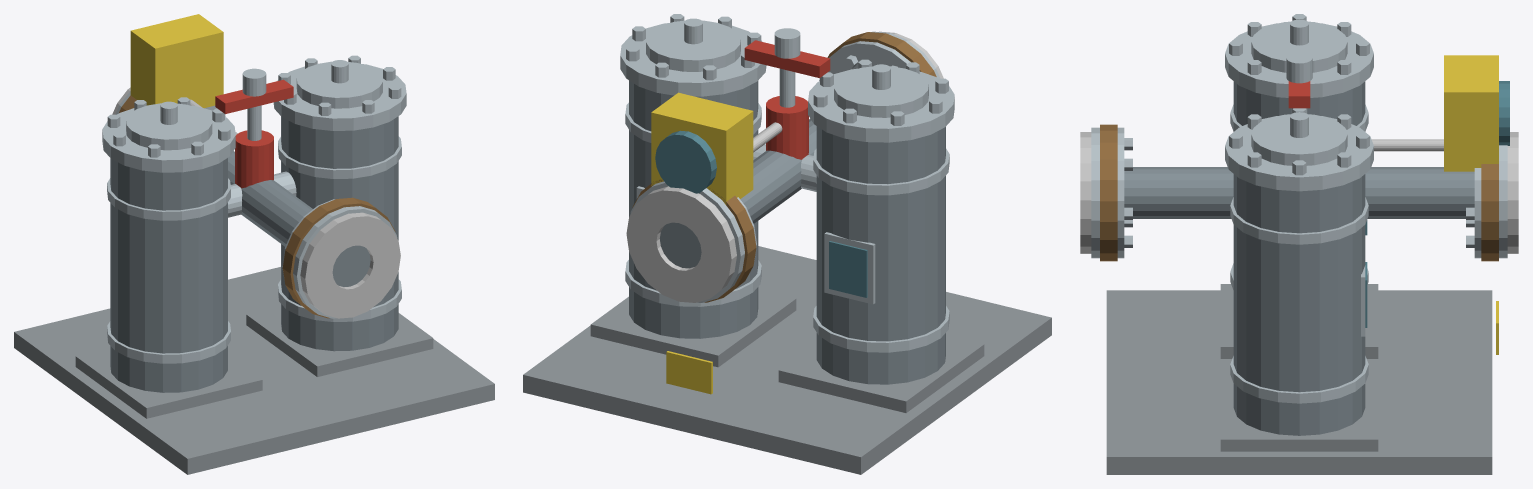
File: body.obj
3 views of the same model, side by side, from view 1: azimuth 30°, elevation 25°; view 2: azimuth 150°, elevation 25°; view 3: azimuth 270°, elevation 25° (orthographic). The views are drawn at different scales.
Bounding box in the file's own units: 0.9 × 0.84 × 1.
